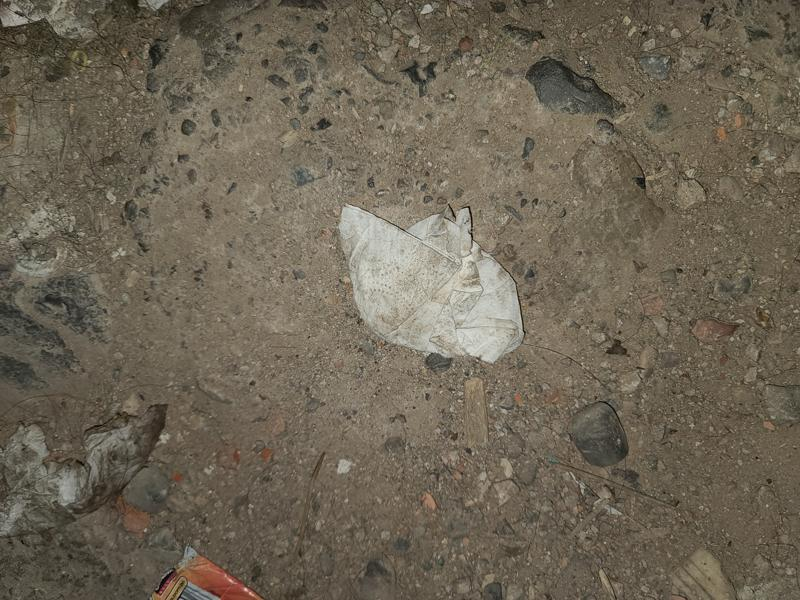papel: (337, 207, 526, 364)
